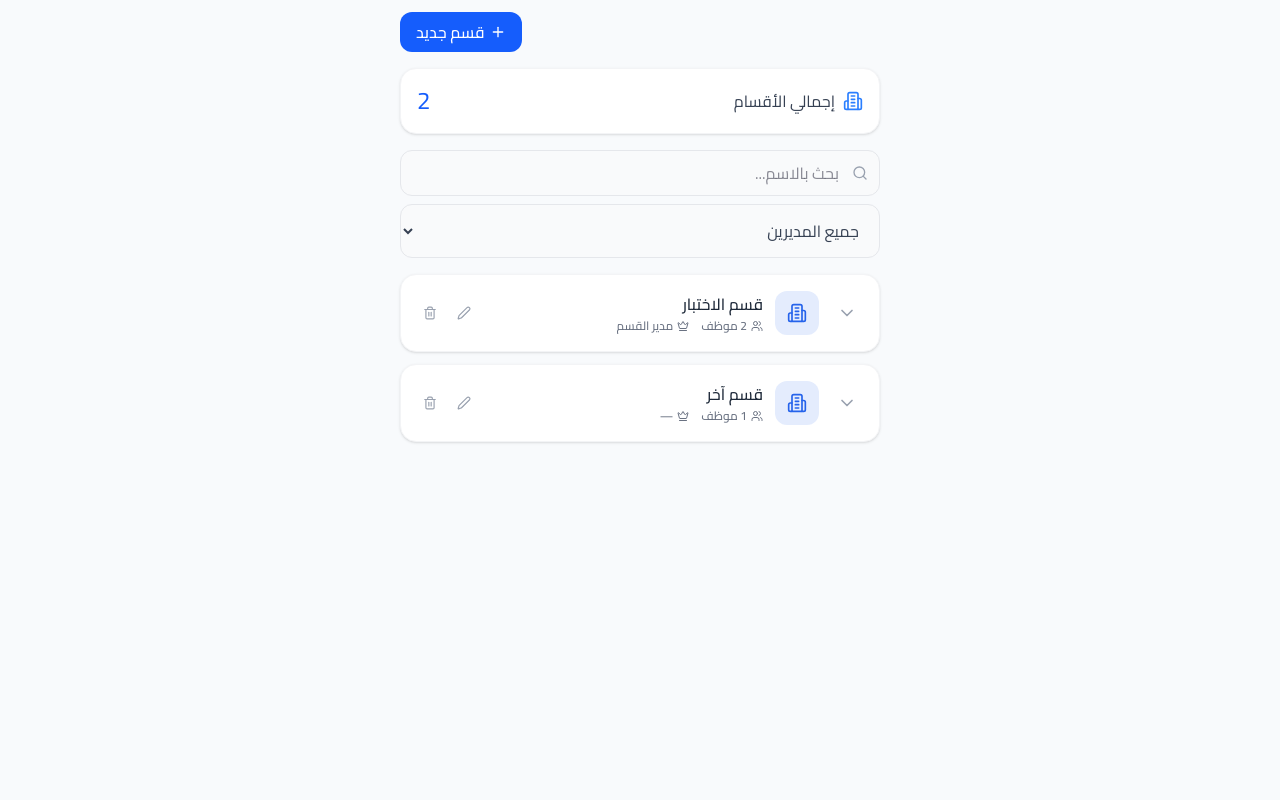
Test: DepartmentsPage role permissions › does not show manager selection in create department modal
The width and height of the screenshot is (1280, 800).
Click the button "قسم جديد". click: (461, 32)
box: [400,12,522,52]
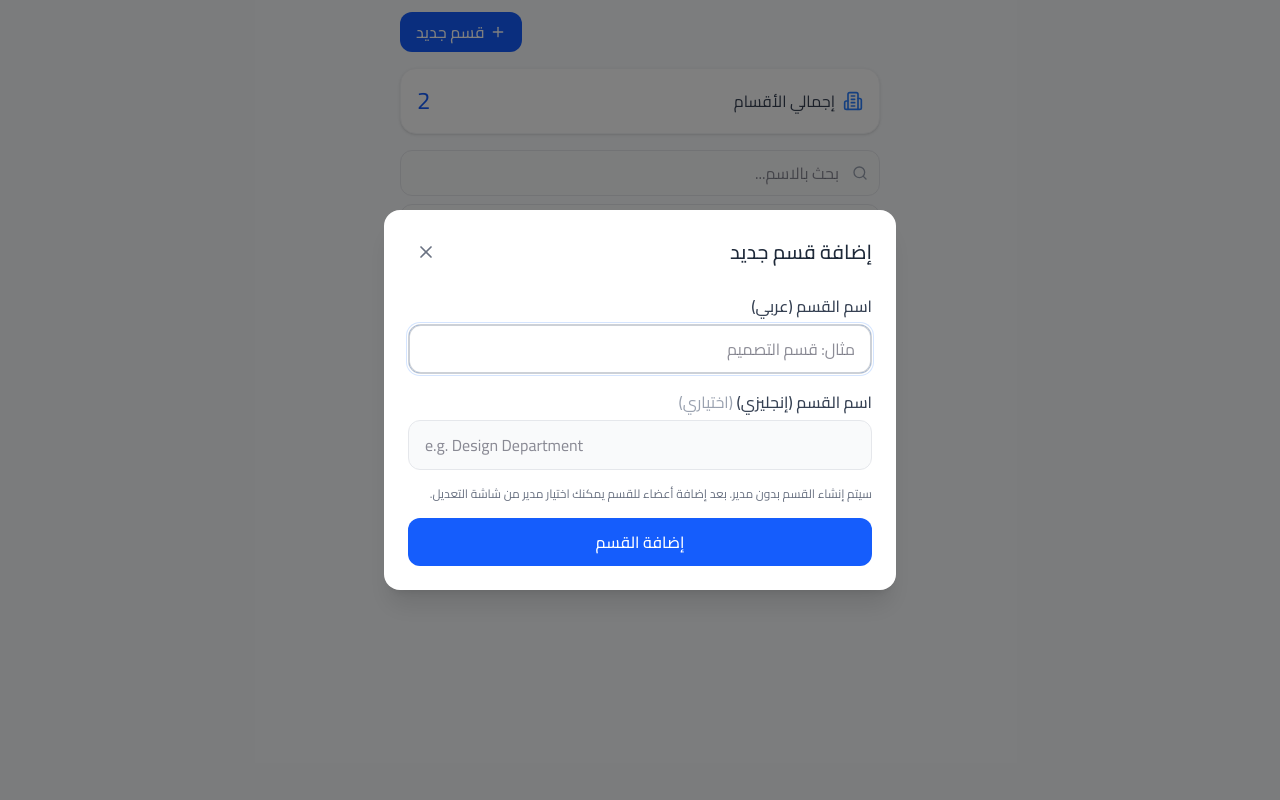
Expected: the number of dropdowns is 1, [400,204,880,258]
Result: the text "سيتم إنشاء القسم بدون مدير. بعد إضافة أعضاء للقسم يمكنك اختيار مدير من شاشة التعديل." is shown at [430,482,872,505]
